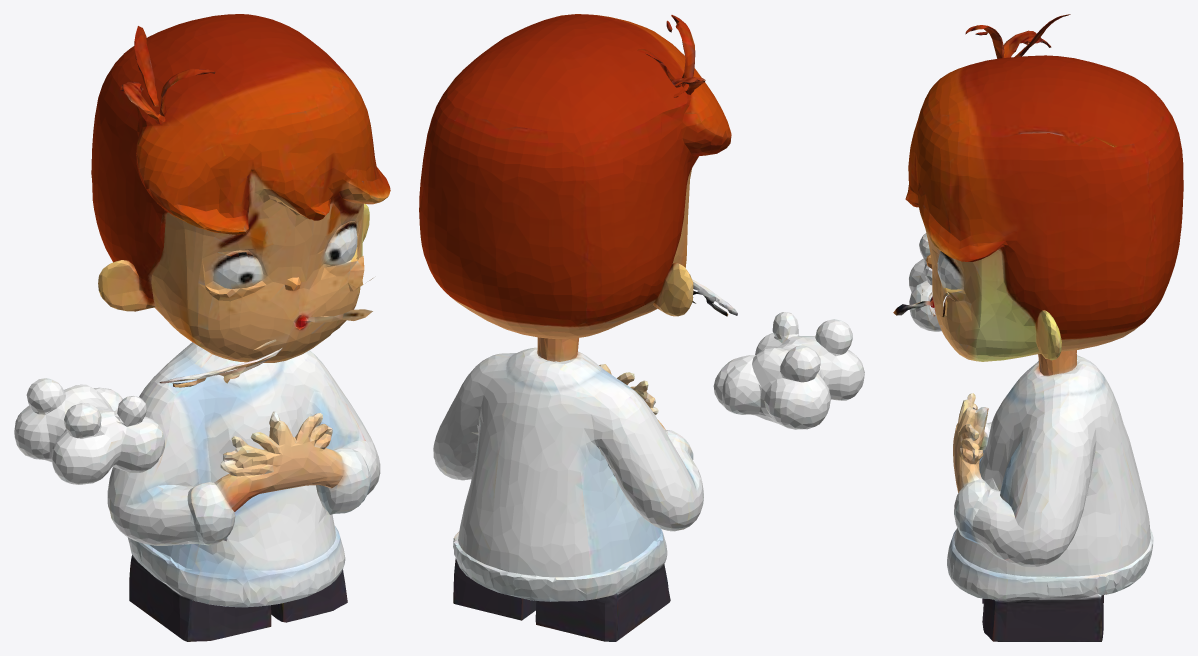
The model's file is agitacion.glb.
3 renders of one model, left to right at view 1: azimuth 30°, elevation 25°; view 2: azimuth 150°, elevation 25°; view 3: azimuth 270°, elevation 25°, orthographic. The views are drawn at different scales.
Parts seen in each view (by area): view 1: Agitacion; view 2: Agitacion; view 3: Agitacion.
Boxes of the visible parts, box(x1,y1,x2,y2) form: Agitacion: box(14, 14, 390, 641); Agitacion: box(419, 14, 864, 641); Agitacion: box(893, 14, 1183, 641).
Size of the model in its own units: 0.6709 by 0.995 by 0.4754.
Materials: 1 (1 with a texture image).
